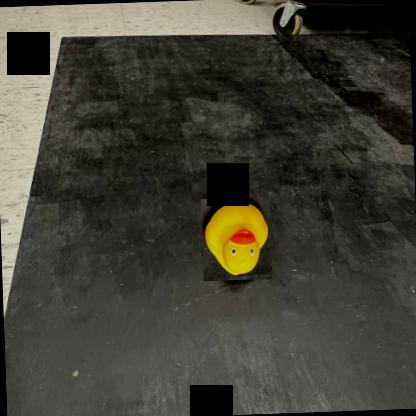duck: (200, 197, 272, 281)
